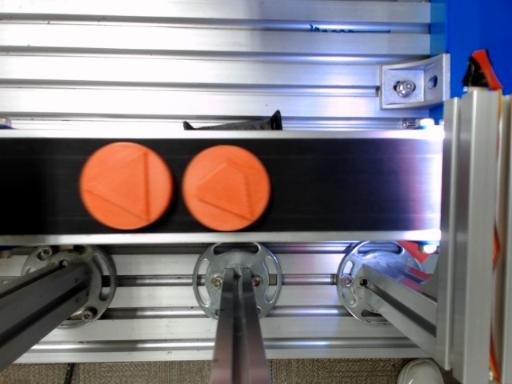Not_Square: (85, 151, 148, 223), (199, 160, 253, 221)
Orange_Waper: (80, 143, 172, 229), (182, 145, 270, 230)
